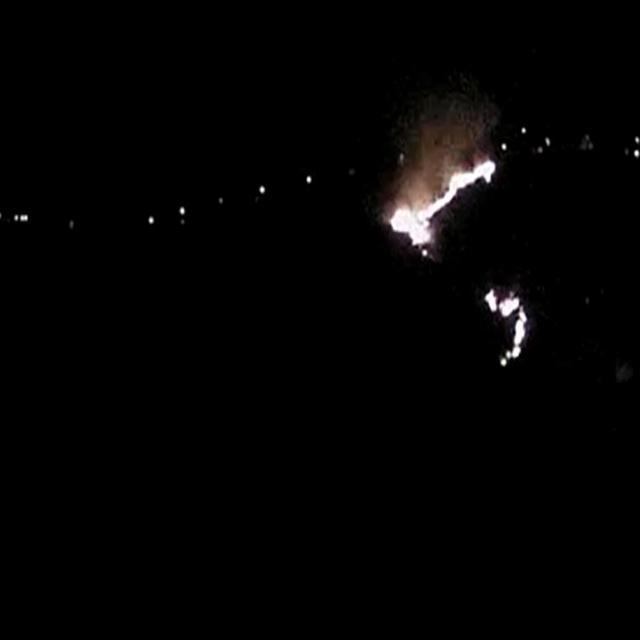Fire: (359, 164, 498, 254), (478, 286, 530, 369)
Smoke: (401, 118, 448, 200)
